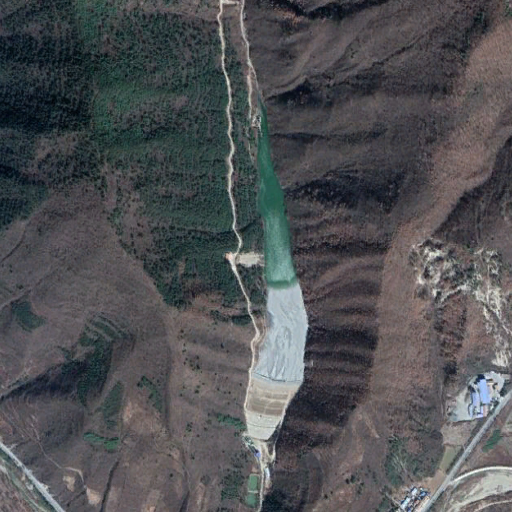tp: (242, 97, 307, 440)
